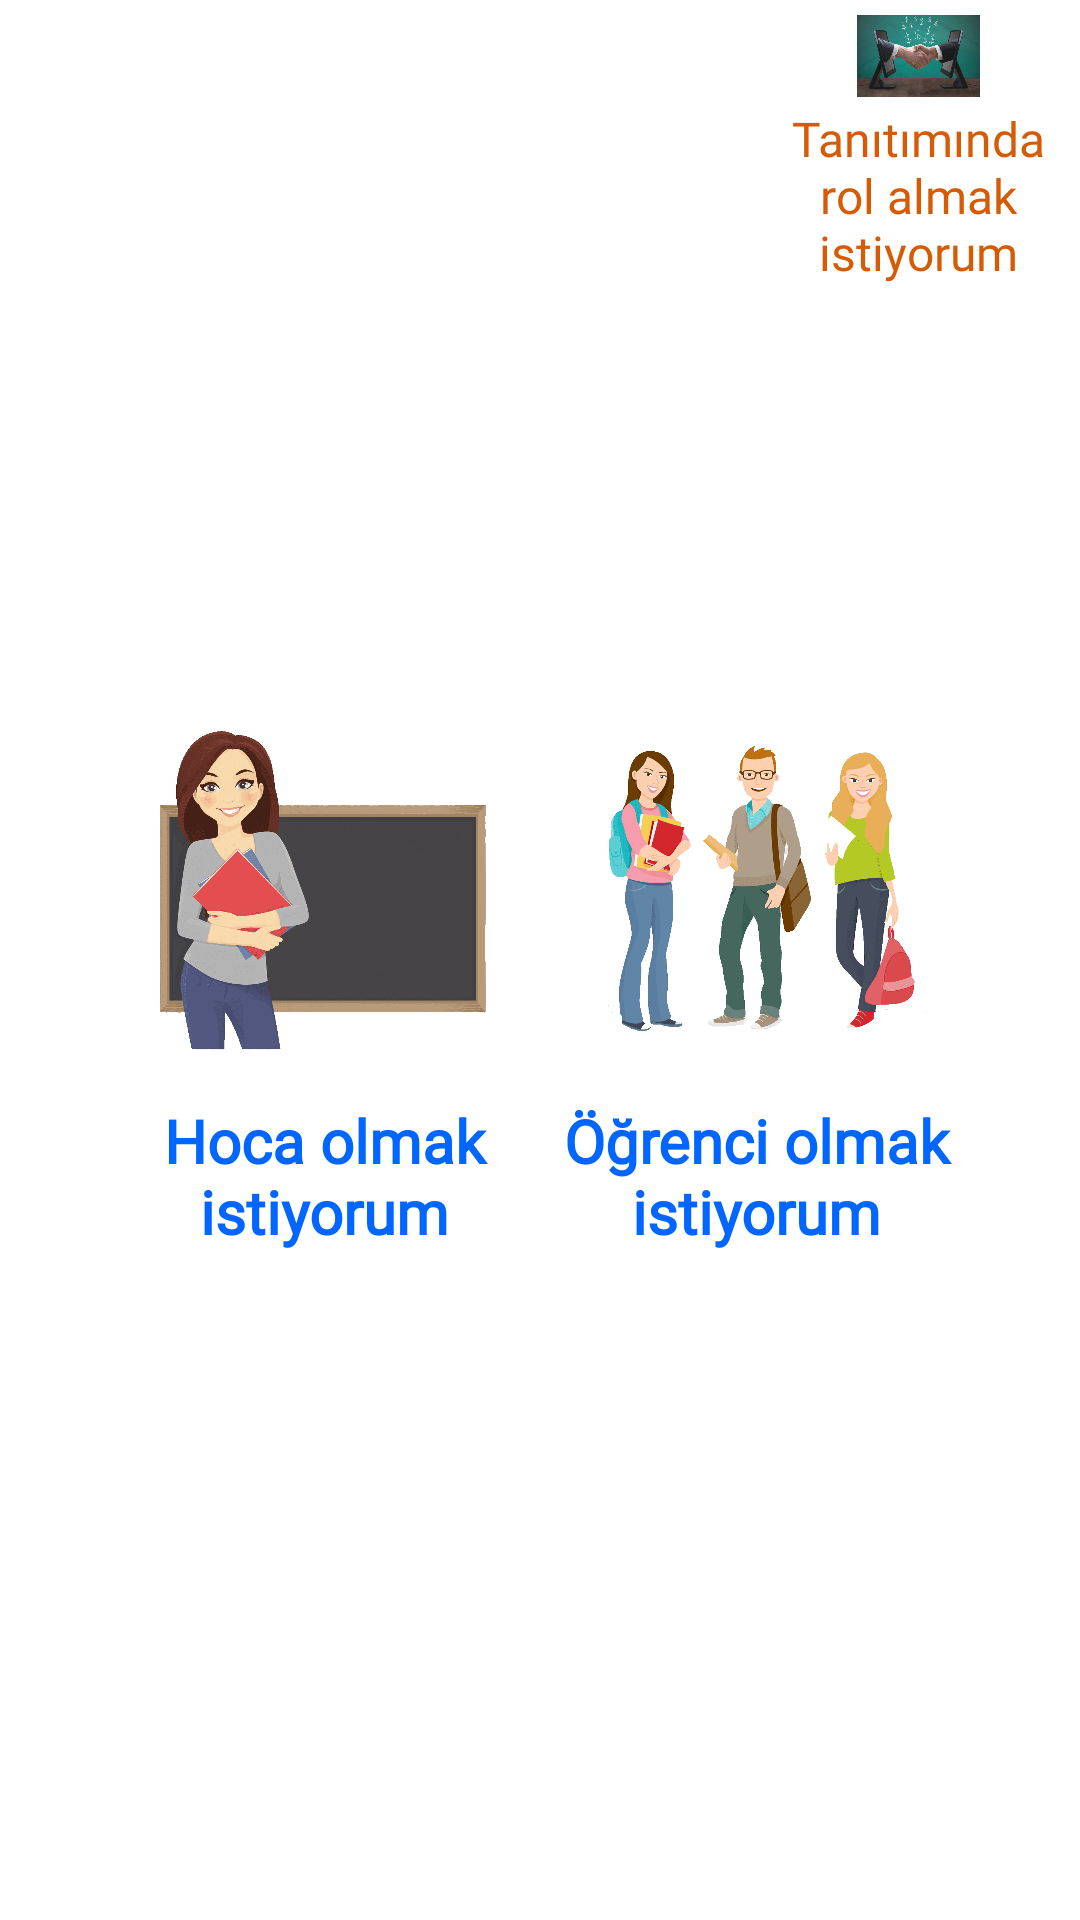

Screen size 1080 x 1920. Icon name, then its box in pixels as (x1, y1, x2, y2):
marketer: (857, 15, 980, 97)
